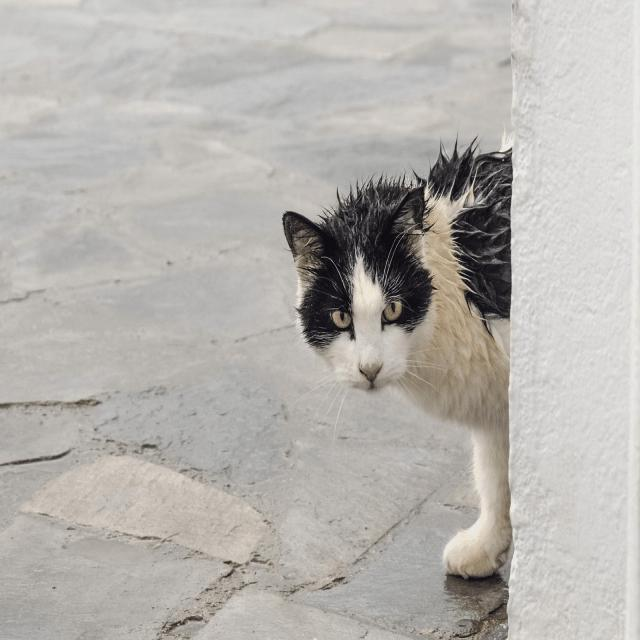cat: (282, 143, 512, 578)
